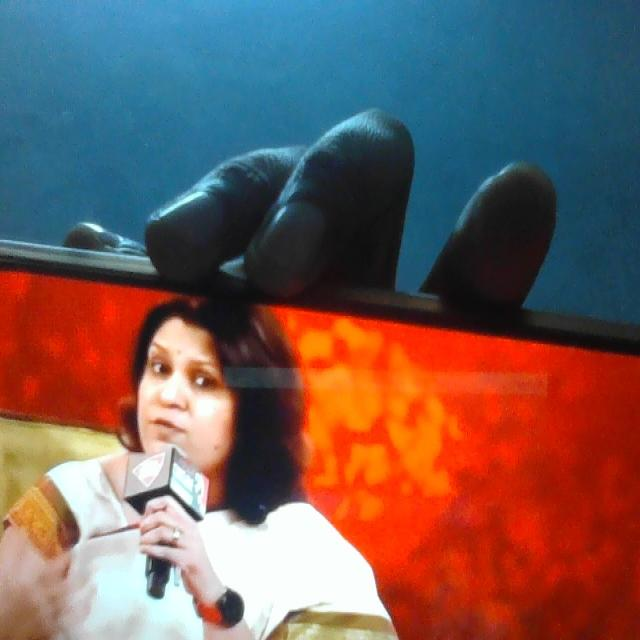fake: (137, 278, 247, 486)
